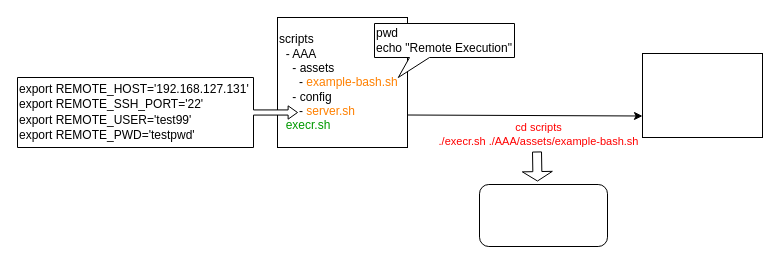
Some shapes in this 780 by 264 pixel diagram are drawn without their labels. The centre of each missing label's shape, as x and y in pixels:
"print messages locally: /home/remote-user Remote Execution" goes at point (543, 215).
"server" goes at point (702, 95).
